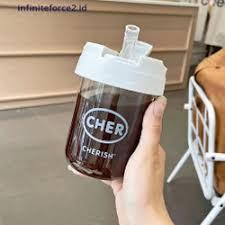BIODEGRADABLE: (71, 14, 162, 181)
